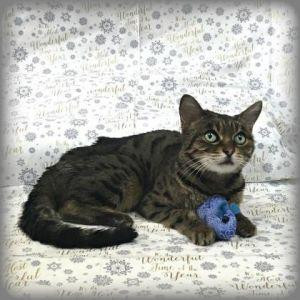bengal: (176, 84, 269, 180)
